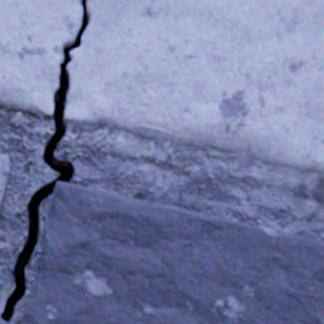brick: (22, 182, 323, 323), (0, 155, 9, 205)
broken_brick: (64, 0, 323, 177), (0, 0, 82, 116)
crack: (0, 0, 88, 322)
